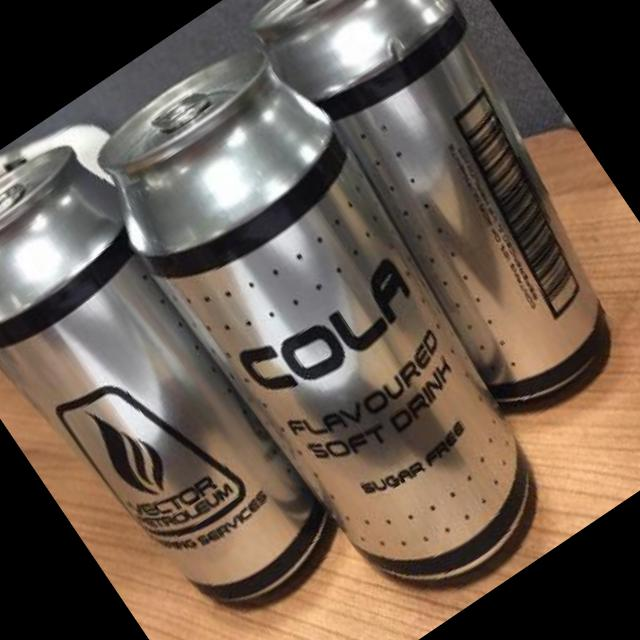Kaleng: (66, 19, 592, 637), (0, 123, 356, 640), (234, 0, 640, 434)
